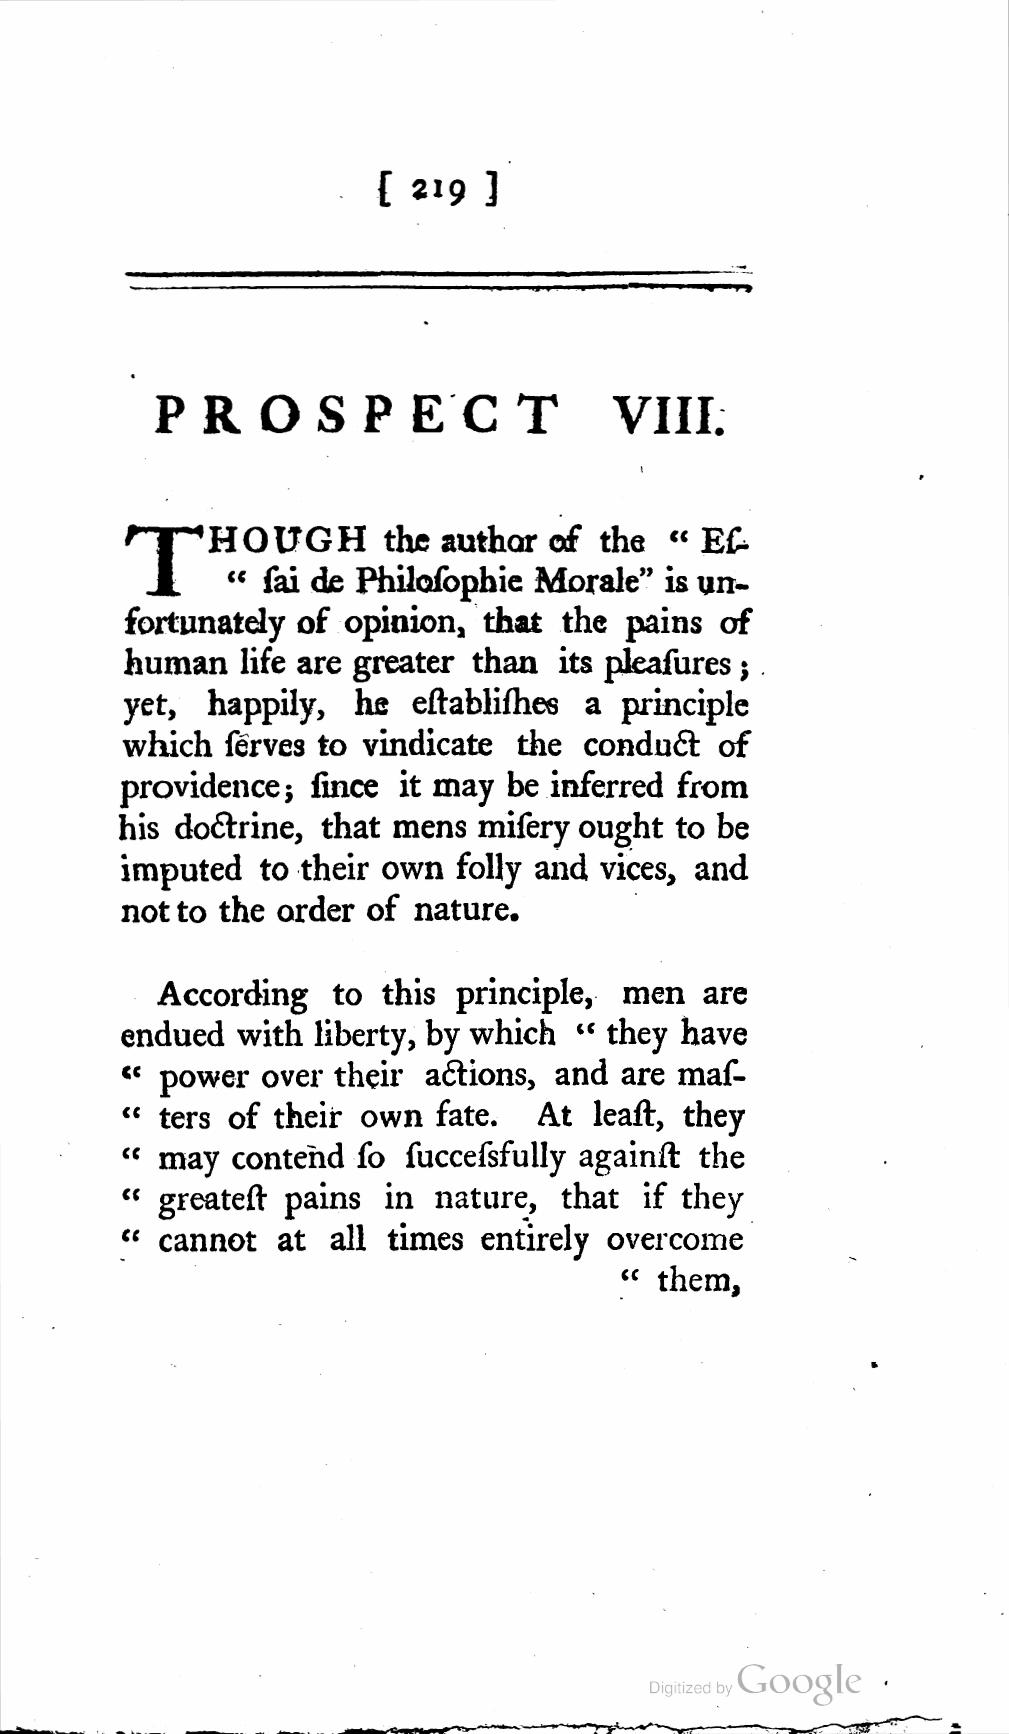catchword: (613, 1258, 746, 1308)
full_p: (119, 514, 757, 928), (151, 384, 730, 449)
initial_l: (119, 507, 209, 608)
page_num: (410, 169, 467, 210)
top_p: (115, 973, 753, 1257)
